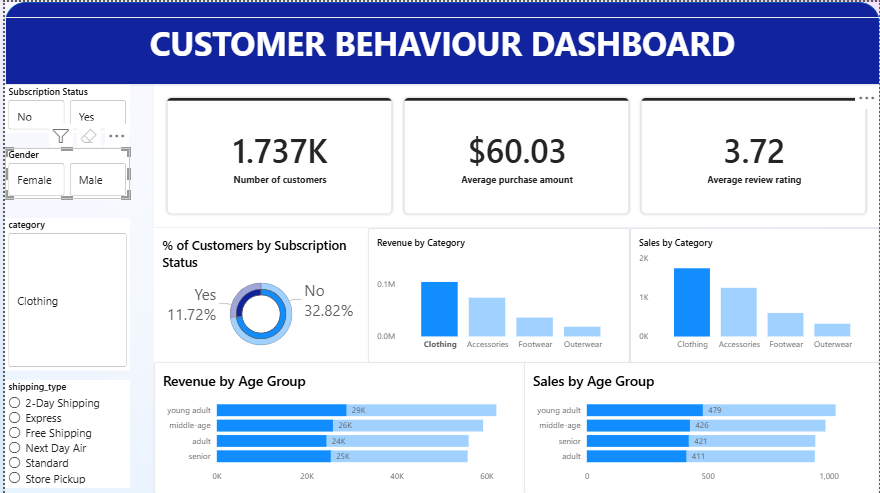

The dashboard page shown, as its layout file describes it:
{"tool":"powerbi","page":{"name":"Page 1","canvas":[1280,720],"ordinal":0},"visuals":[{"type":"cardVisual","fields":{"Data":["customer_behaviour customer_staging1.Number of customers","customer_behaviour customer_staging1.Average purchase amount","customer_behaviour customer_staging1.Average review rating"]},"box":[218.3,121.7,1061.7,208.3],"z":0},{"type":"shape","box":[0,0,1280,121.7],"z":1000},{"type":"textbox","box":[0,21.7,1280,100],"z":2000},{"type":"donutChart","title":"% of Customers by Subscription Status","fields":{"Category":["customer_behaviour customer_staging1.subscription_status"],"Y":["CountNonNull(customer_behaviour customer_staging1.customer_id)"]},"box":[218.3,330,313.3,196.7],"z":3000},{"type":"clusteredColumnChart","title":"Revenue by Category","fields":{"Category":["customer_behaviour customer_staging1.category"],"Y":["Sum(customer_behaviour customer_staging1.purchase_amount)"]},"box":[531.7,330,383.3,196.7],"z":4000},{"type":"clusteredColumnChart","title":"Sales by Category","fields":{"Category":["customer_behaviour customer_staging1.category"],"Y":["CountNonNull(customer_behaviour customer_staging1.customer_id)"]},"box":[915,330,365,196.7],"z":5000},{"type":"advancedSlicerVisual","title":"Subscription Status","fields":{"Values":["customer_behaviour customer_staging1.subscription_status"]},"box":[0,121.7,183.3,70],"z":6000},{"type":"advancedSlicerVisual","title":"Gender","fields":{"Values":["customer_behaviour customer_staging1.gender"]},"box":[0,213.3,183.3,75],"z":7000},{"type":"advancedSlicerVisual","fields":{"Values":["customer_behaviour customer_staging1.category"]},"box":[0,316.7,183.3,223.3],"z":8000},{"type":"listSlicer","fields":{"Values":["customer_behaviour customer_staging1.shipping_type"]},"box":[0,553.3,183.3,158.3],"z":9000},{"type":"clusteredBarChart","title":"Revenue by Age Group","fields":{"Y":["Sum(customer_behaviour customer_staging1.purchase_amount)"],"Category":["customer_behaviour customer_staging1.age_group"]},"box":[218.3,526.7,553.3,193.3],"z":10000},{"type":"clusteredBarChart","title":"Sales by Age Group","fields":{"Y":["CountNonNull(customer_behaviour customer_staging1.customer_id)"],"Category":["customer_behaviour customer_staging1.age_group"]},"box":[760,526.7,520,193.3],"z":11000}]}

Visuals, with their boxes in screenshot pixels (x1, y1, x2, y2), scaled from the page's 1280x720 canvas onto the 880x493 screenshot:
cardVisual - customer_behaviour customer_staging1.Number of customers x customer_behaviour customer_staging1.Average purchase amount: 150:83:879:226
shape: 0:0:879:83
textbox: 0:15:879:83
"% of Customers by Subscription Status" donutChart: 150:226:365:361
"Revenue by Category" clusteredColumnChart: 366:226:629:361
"Sales by Category" clusteredColumnChart: 629:226:879:361
"Subscription Status" advancedSlicerVisual: 0:83:126:131
"Gender" advancedSlicerVisual: 0:146:126:197
advancedSlicerVisual - customer_behaviour customer_staging1.category: 0:217:126:370
listSlicer - customer_behaviour customer_staging1.shipping_type: 0:379:126:487
"Revenue by Age Group" clusteredBarChart: 150:361:530:492
"Sales by Age Group" clusteredBarChart: 522:361:879:492
